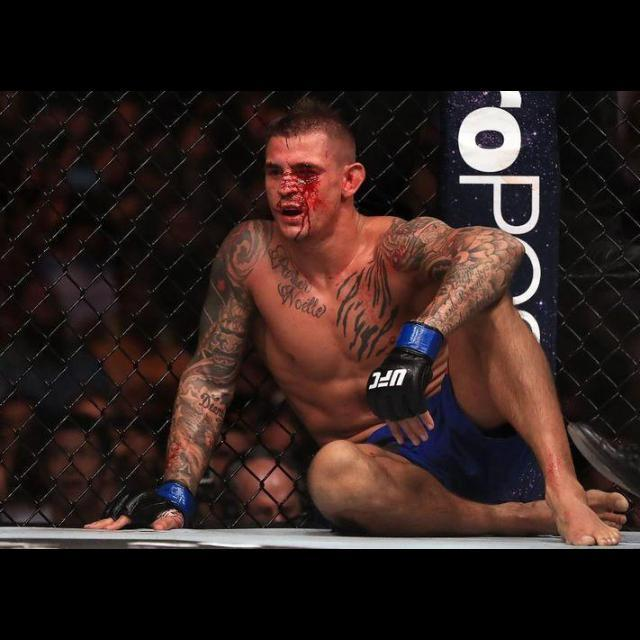blood: (273, 159, 324, 244)
